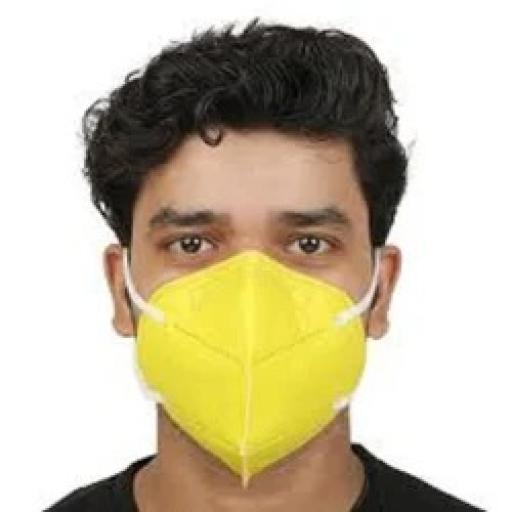mask: (136, 252, 366, 474)
